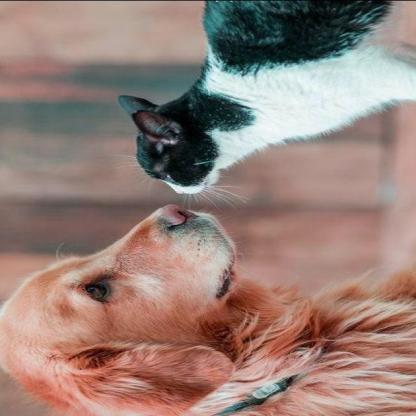cat: (112, 0, 416, 197)
dog: (13, 203, 400, 415)
